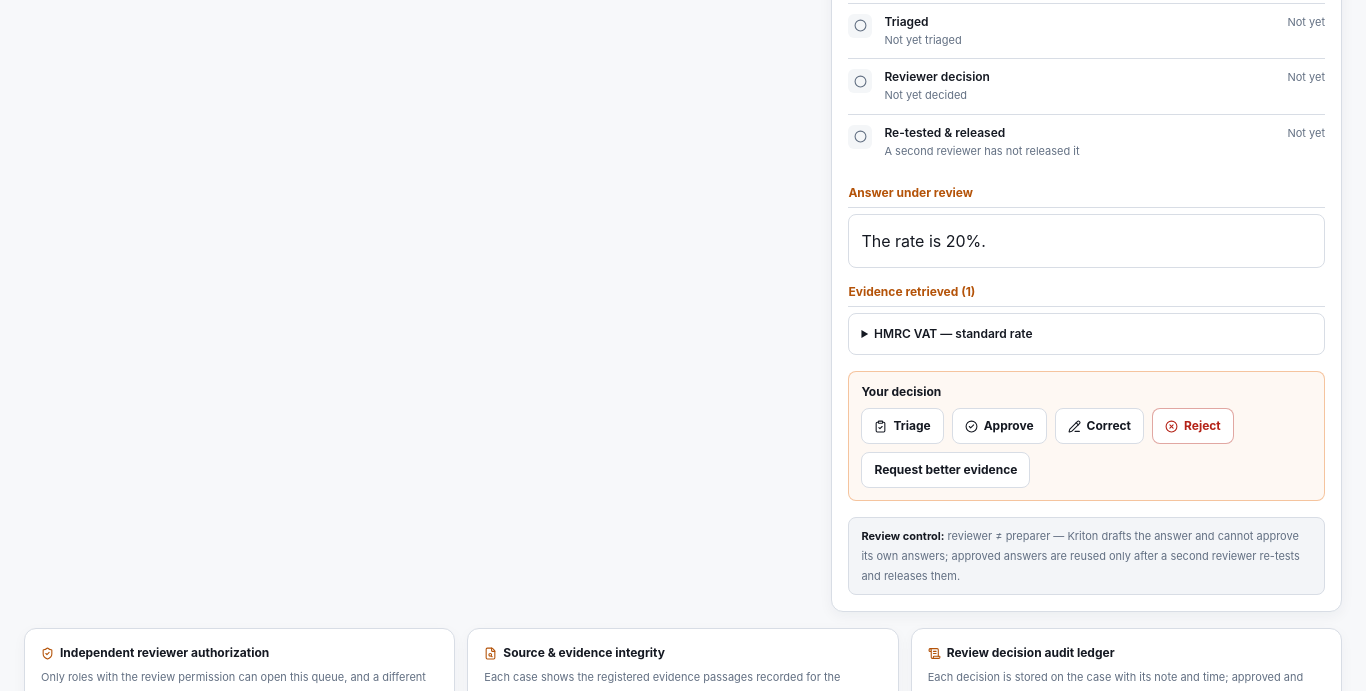
Test: review workflow › shows the recorded evidence and requires facts before approval
(page scrolled)
Click the button "Approve" at (999, 426), box [952,408,1047,444]
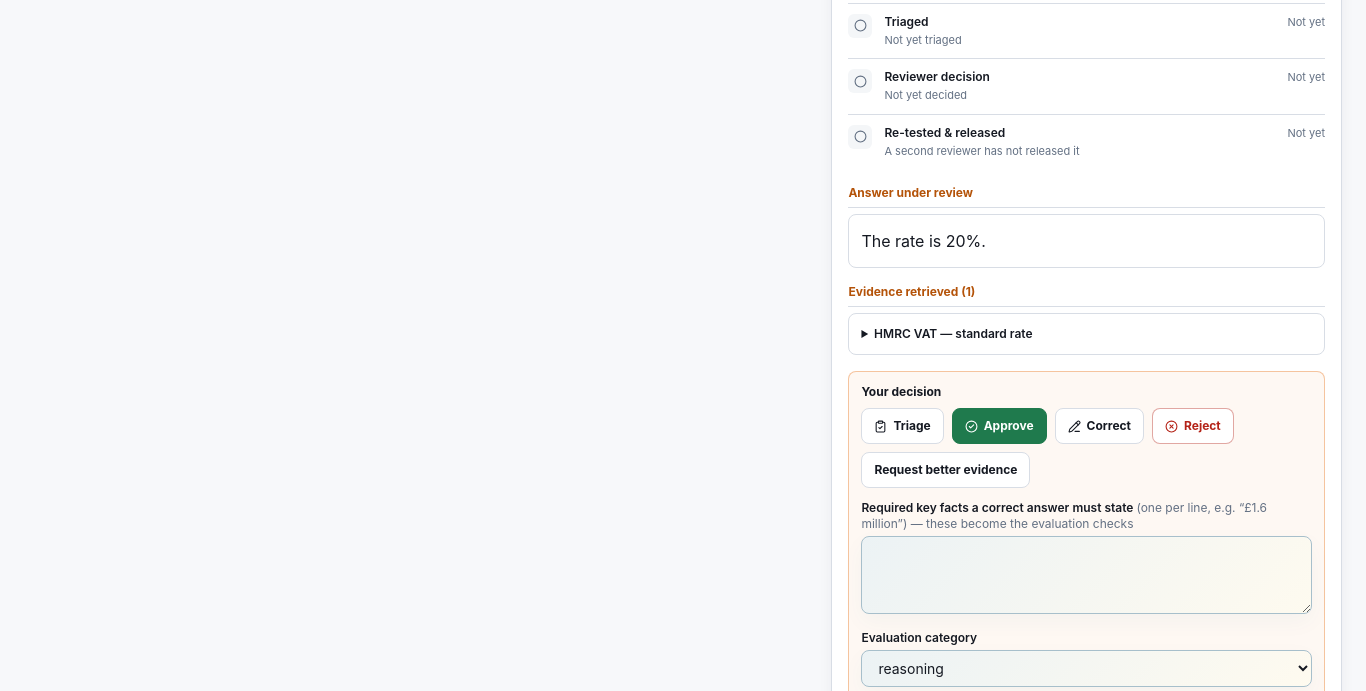
Type "20%" into the text box labelled "Required key facts" at (1087, 575), box [861,536,1312,614]
(page scrolled)
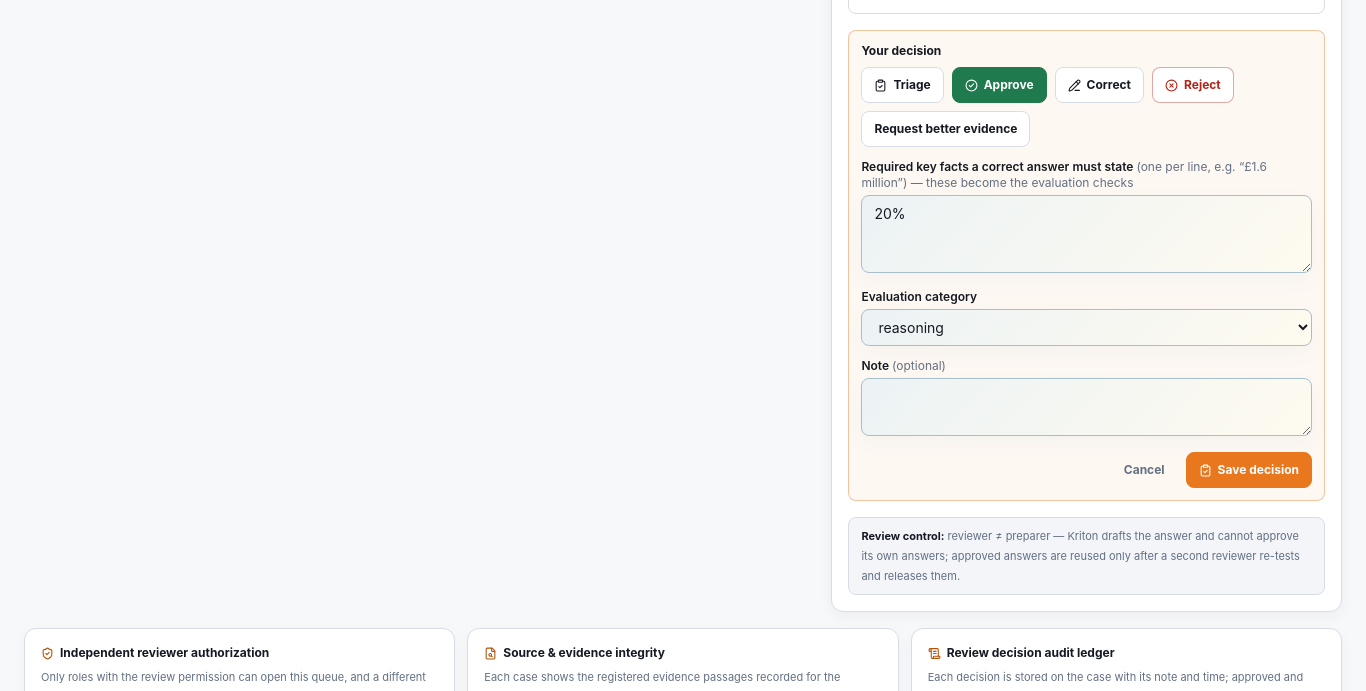
Expected: the button "Save decision" is enabled, [1186,452,1312,488]
